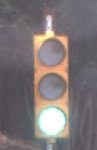Green: (29, 27, 78, 139)
